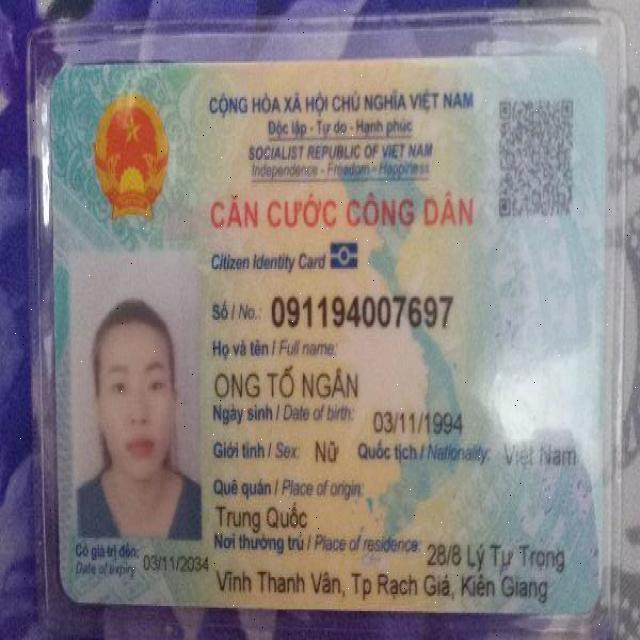current_place: (214, 561, 554, 610), (423, 539, 571, 576)
dob: (369, 408, 467, 438)
expire_date: (140, 553, 212, 574)
gender: (310, 433, 343, 469)
id: (267, 292, 459, 334)
name: (211, 365, 364, 404)
nationality: (500, 435, 581, 474)
origin_place: (211, 501, 313, 535)
